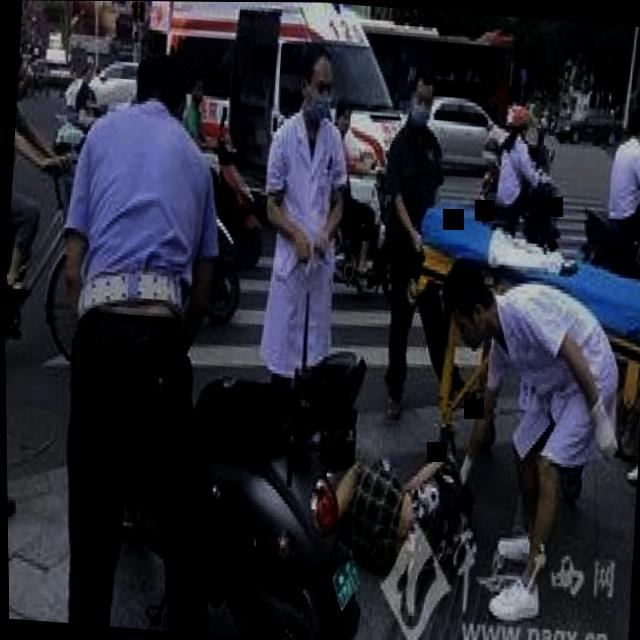Fall-Detected: (301, 410, 469, 581)
